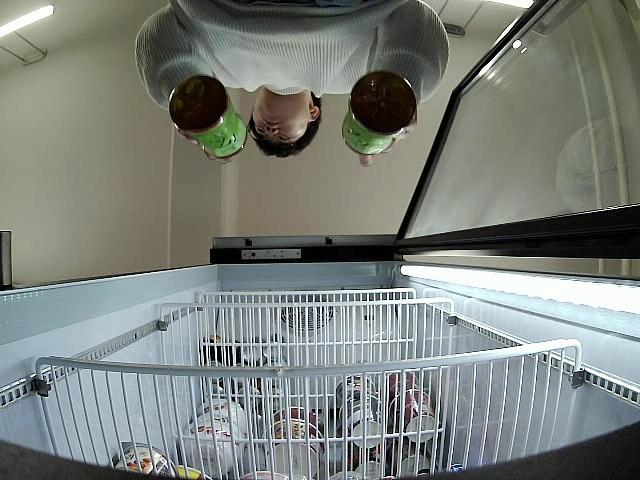19_17cha: (168, 74, 248, 160), (341, 71, 418, 156)
